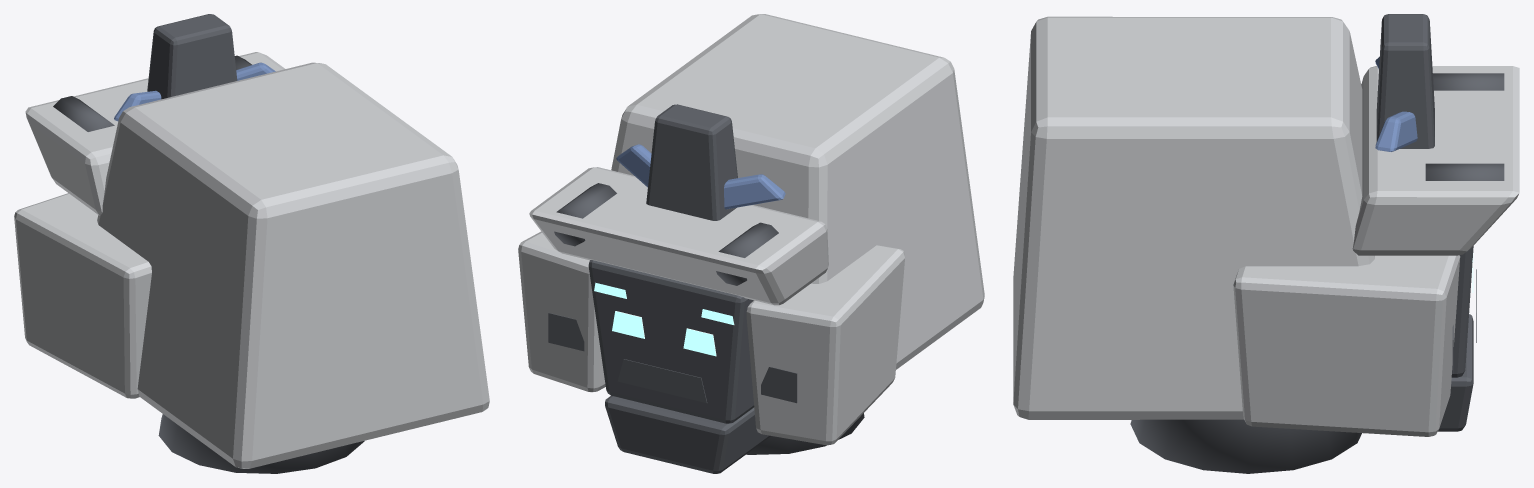
File: head_quad.glb
3 views of the same model, side by side, from view 1: azimuth 30°, elevation 25°; view 2: azimuth 150°, elevation 25°; view 3: azimuth 270°, elevation 25° (orthographic). The views are drawn at different scales.
Visible parts, largest first — view 1: skull, cheek, brow, sensor_base, neck, vulcan, sensor_blade; view 2: skull, cheek, brow, faceplate, cheek.001, sensor_base, chin, mouth_vent, sensor_blade, vulcan.001, vulcan, cheek_vent (+5 smaller); view 3: skull, cheek.001, brow, neck, sensor_base, chin, faceplate, vulcan.001, vulcan, sensor_blade.001.
Boxes of the visible parts, bbox=[...] form: skull: bbox=[97, 62, 489, 468]; cheek: bbox=[14, 193, 151, 398]; brow: bbox=[25, 52, 284, 215]; sensor_base: bbox=[147, 14, 237, 99]; neck: bbox=[158, 414, 364, 473]; vulcan: bbox=[53, 96, 114, 131]; sensor_blade: bbox=[114, 90, 161, 121]; skull: bbox=[611, 14, 984, 369]; cheek: bbox=[746, 245, 905, 445]; brow: bbox=[529, 167, 828, 305]; faceplate: bbox=[588, 260, 754, 423]; cheek.001: bbox=[518, 231, 605, 392]; sensor_base: bbox=[646, 104, 737, 220]; chin: bbox=[605, 395, 770, 473]; mouth_vent: bbox=[617, 359, 707, 403]; sensor_blade: bbox=[724, 174, 785, 209]; vulcan.001: bbox=[554, 183, 616, 246]; vulcan: bbox=[716, 222, 778, 285]; cheek_vent: bbox=[761, 367, 797, 403]; skull: bbox=[1013, 16, 1374, 419]; cheek.001: bbox=[1233, 255, 1460, 436]; brow: bbox=[1352, 66, 1519, 255]; neck: bbox=[1130, 419, 1361, 473]; sensor_base: bbox=[1376, 14, 1434, 148]; chin: bbox=[1438, 314, 1473, 431]; faceplate: bbox=[1451, 246, 1473, 377]; vulcan.001: bbox=[1425, 163, 1504, 180]; vulcan: bbox=[1433, 73, 1504, 90]; sensor_blade.001: bbox=[1375, 111, 1417, 151].
Bounding box in the file's own units: 1.83 × 1.89 × 2.19.
